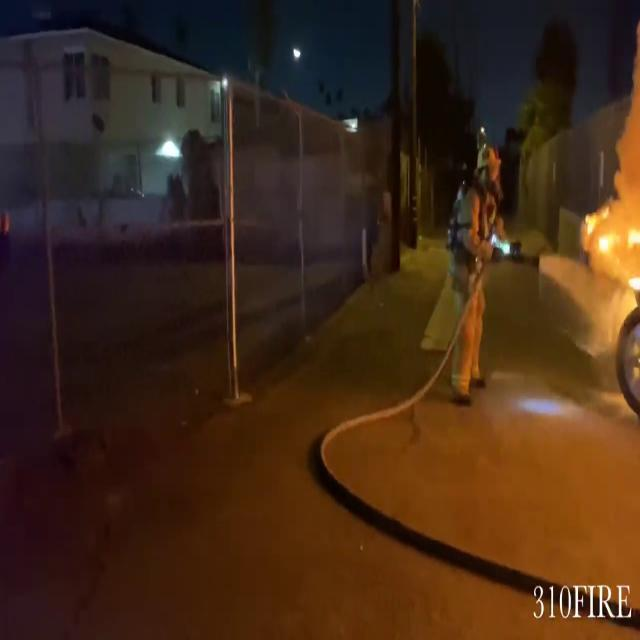Fire: (589, 207, 640, 265)
